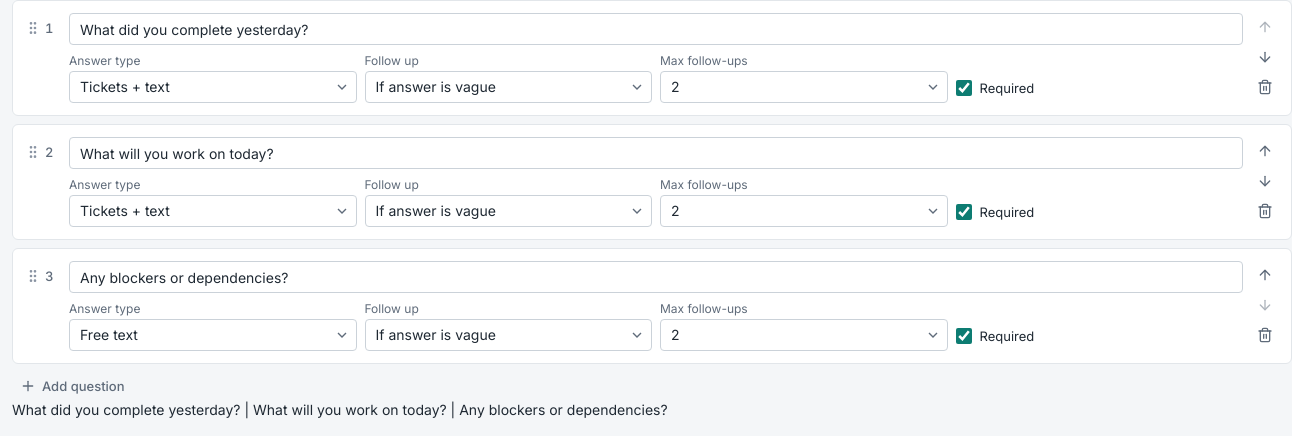
Test: QuestionListEditor › reorders with keyboard-accessible buttons and announces the move
The width and height of the screenshot is (1292, 436).
Click the button named "Move question 3 up" at point(1265, 275), box [1251,261,1279,289]
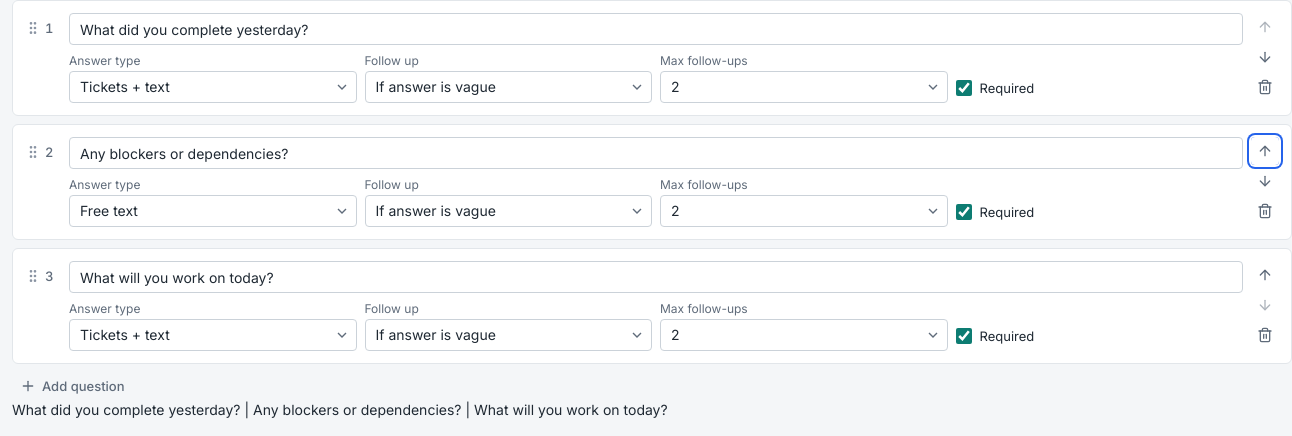
Now the text with test id "order" shows "What did you complete yesterday? | Any blockers or dependencies? | What will you work on today?", box [12,401,668,418]
